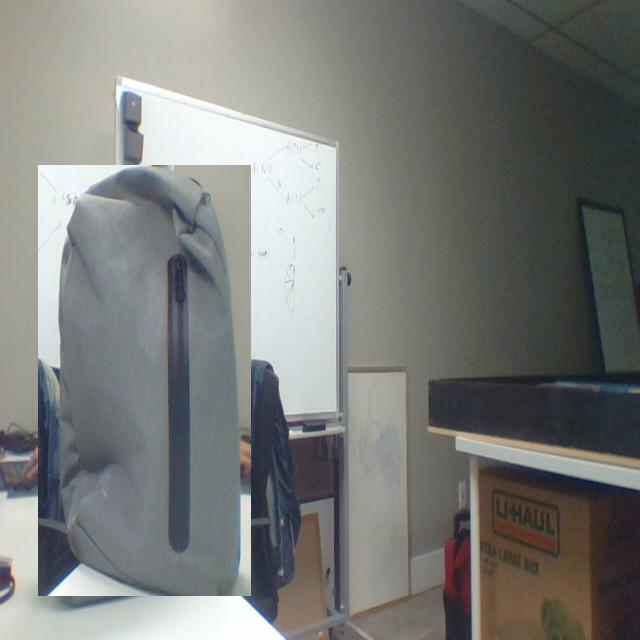Backpacks: (38, 165, 252, 598)
